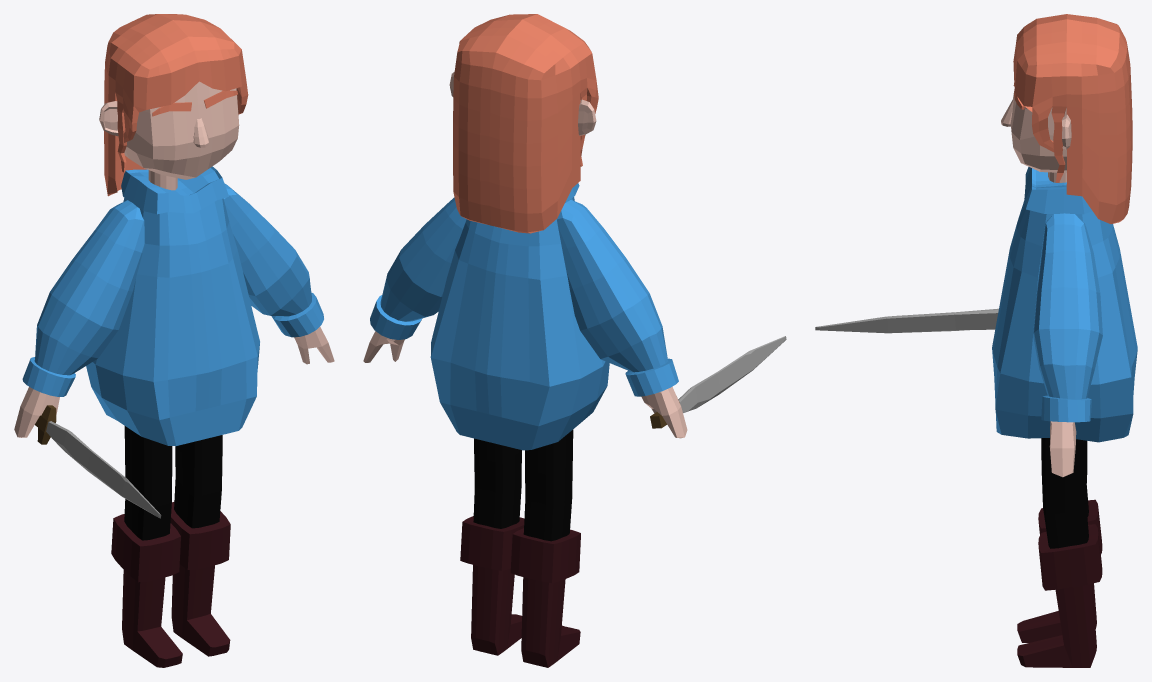
The model's file is Irene.fbx.
3 renders of one model, left to right at view 1: azimuth 30°, elevation 25°; view 2: azimuth 150°, elevation 25°; view 3: azimuth 270°, elevation 25°, orthographic.
Visible parts, largest first — view 1: Irene; view 2: Irene; view 3: Irene.
Boxes of the visible parts, bbox=[...] form: Irene: bbox=[14, 14, 334, 667]; Irene: bbox=[363, 14, 786, 667]; Irene: bbox=[815, 14, 1137, 667].
Size of the model in its own units: 229 by 433 by 201.
